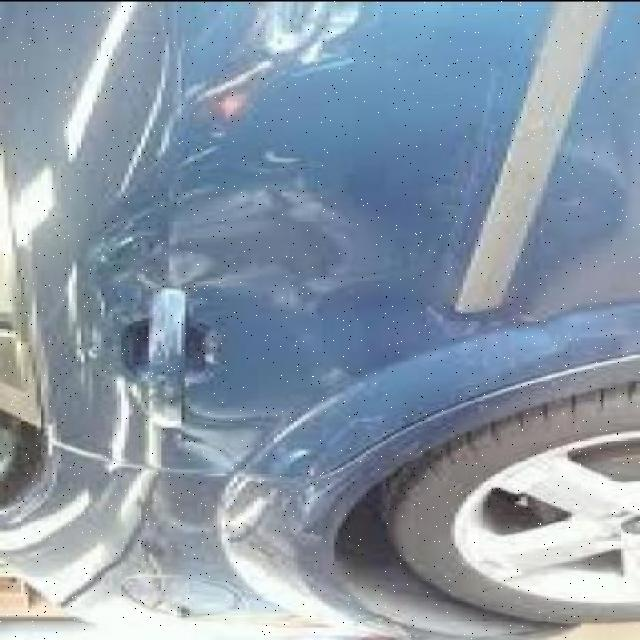damage: (96, 182, 640, 525)
